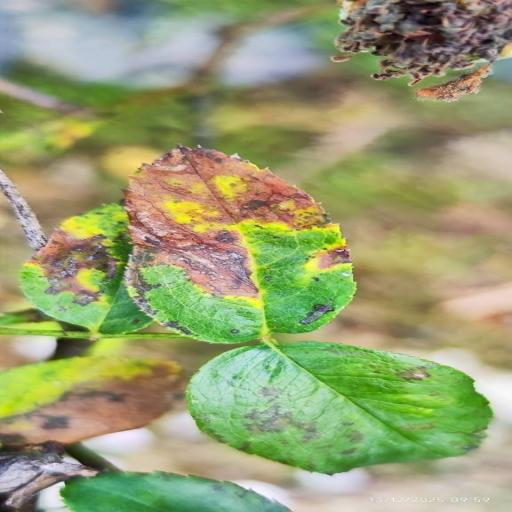thrip: (125, 146, 355, 342), (188, 342, 491, 474), (21, 203, 151, 334), (0, 356, 183, 447)
